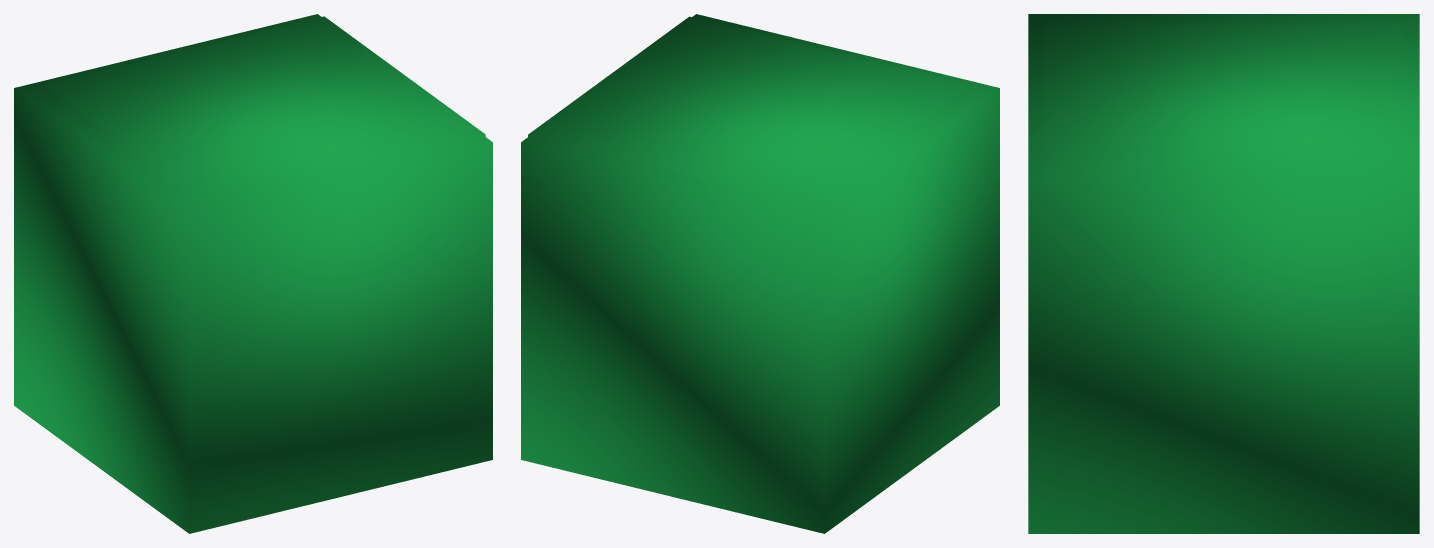
File: ps2_jrpg_imperial_insignia.obj
The picture shows the model from 3 angles, left to right: view 1: azimuth 30°, elevation 25°; view 2: azimuth 150°, elevation 25°; view 3: azimuth 270°, elevation 25°; orthographic projection. The views are drawn at different scales.
Bounding box in the file's own units: 1 × 1.01 × 1.
